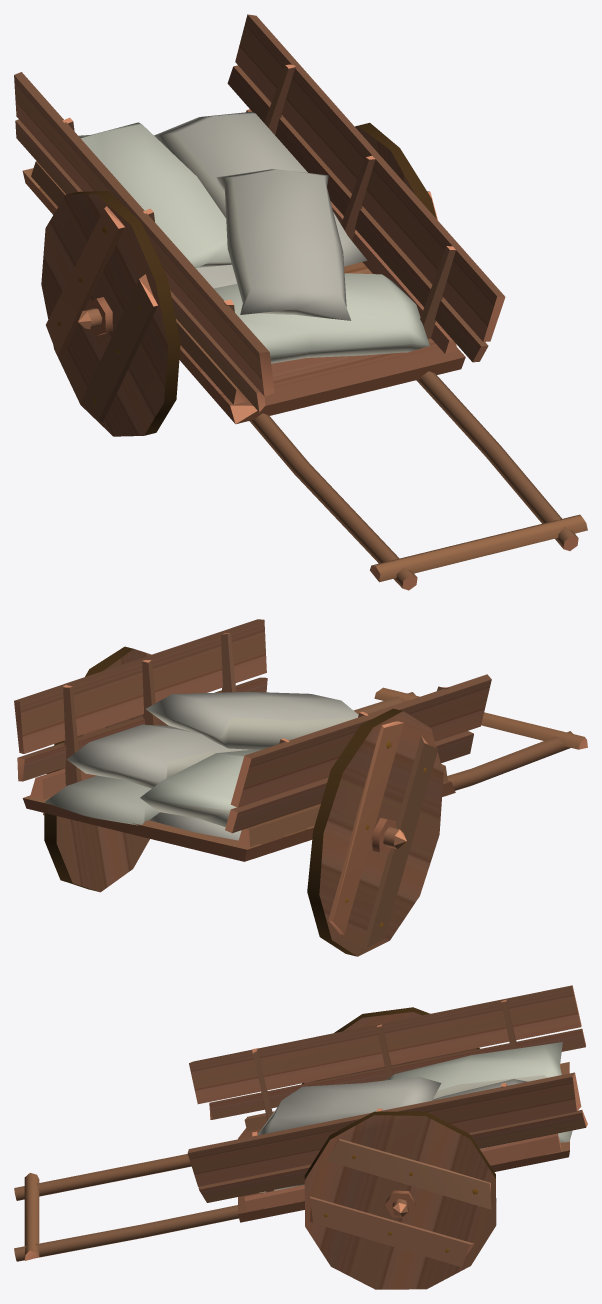
File: Cart.glb
3 renders of one model, top to bottom at view 1: azimuth 30°, elevation 25°; view 2: azimuth 150°, elevation 25°; view 3: azimuth 270°, elevation 25°, orthographic. The views are drawn at different scales.
Visible parts, largest first — view 1: Cart-ver2; view 2: Cart-ver2; view 3: Cart-ver2.
Boxes of the visible parts, x1,y1,x2,y2 form: Cart-ver2: [14, 14, 587, 590]; Cart-ver2: [14, 619, 587, 956]; Cart-ver2: [14, 985, 587, 1289].
Bounding box in the file's own units: 1.72 × 1.32 × 3.29.
1 material, 1 textured.
